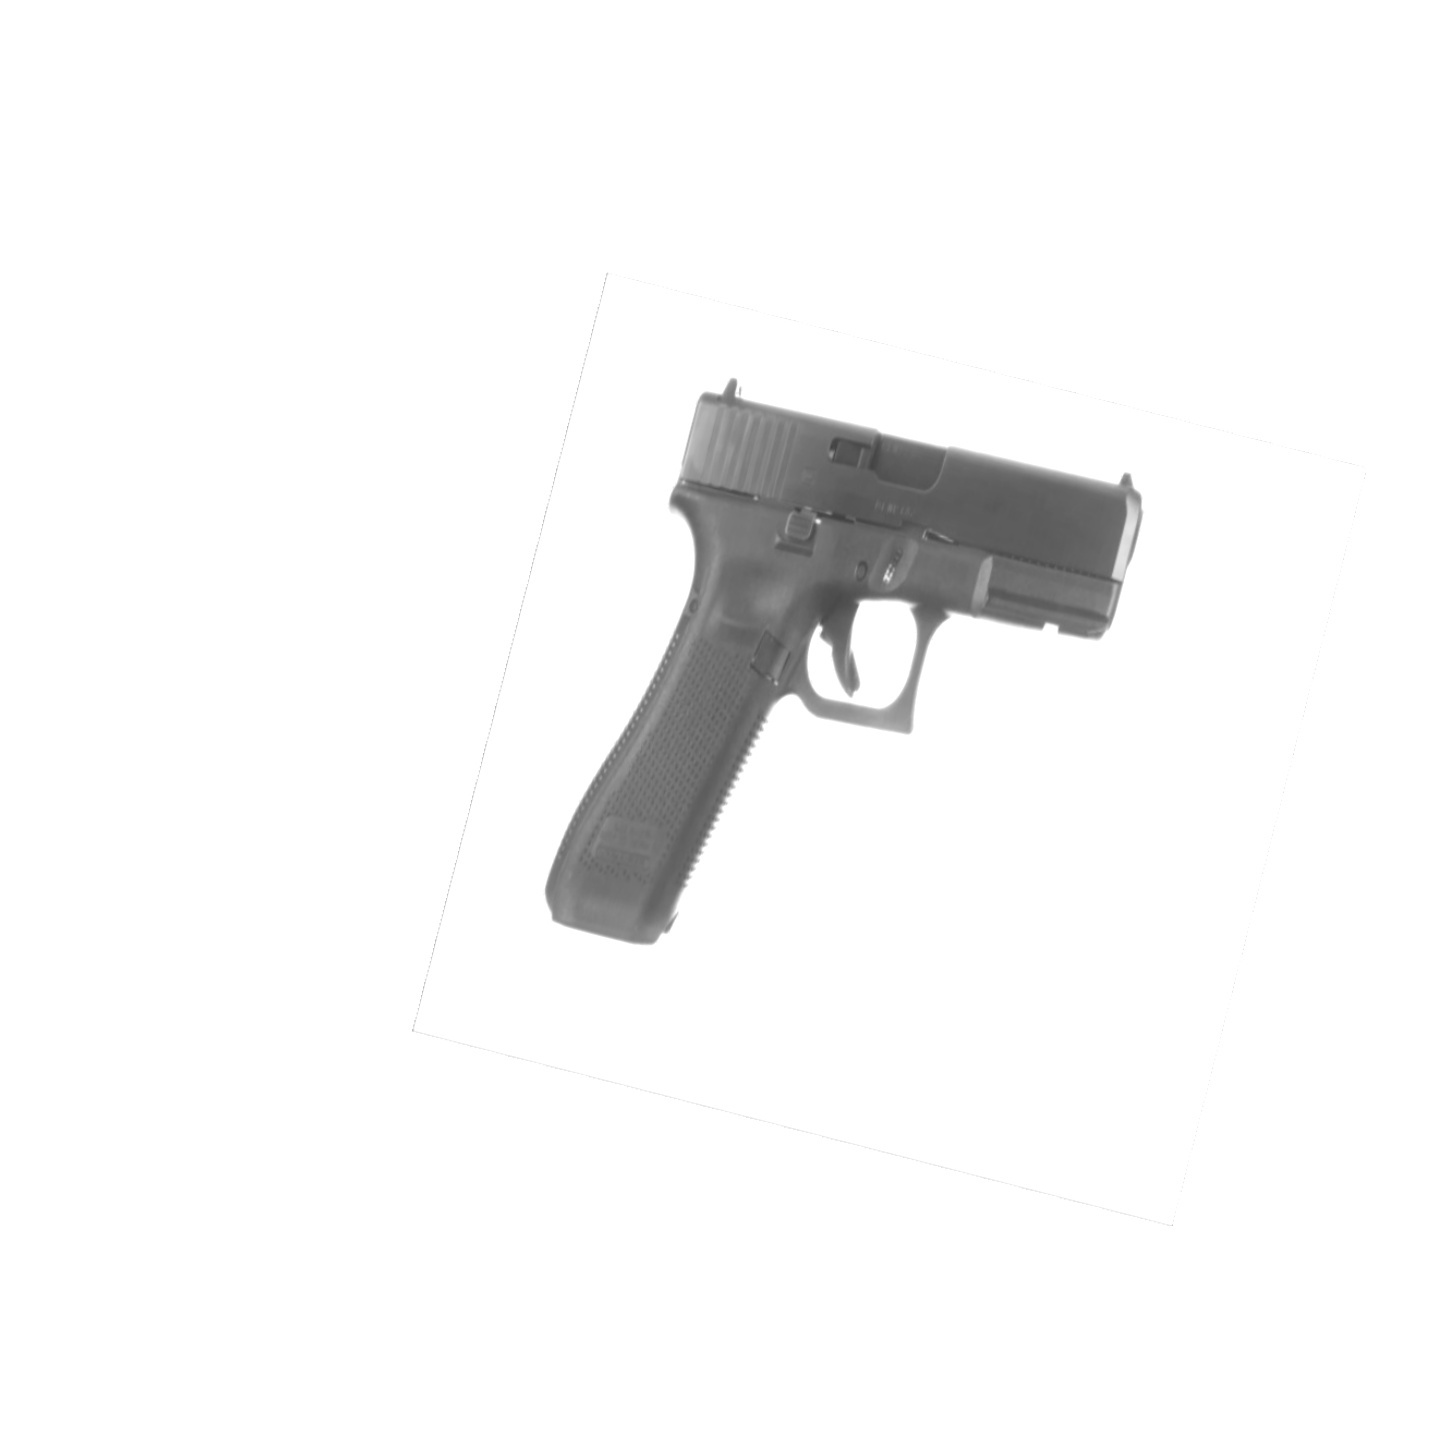gun: (543, 377, 1144, 940)
